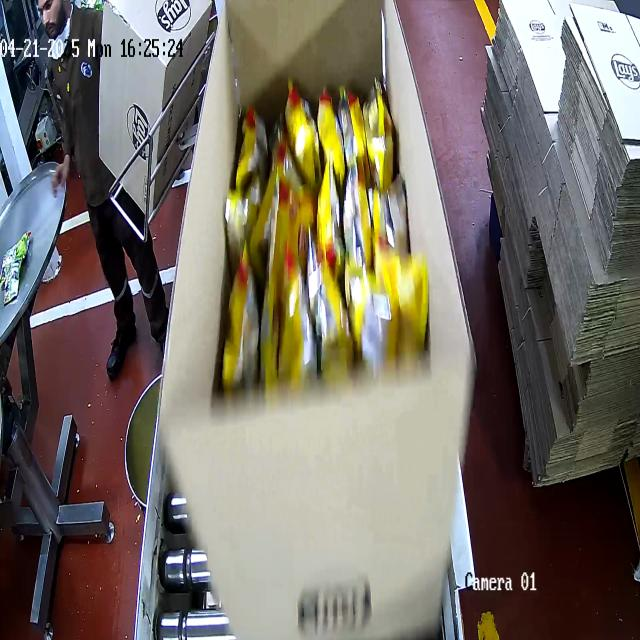SALTED: (223, 83, 430, 366)
